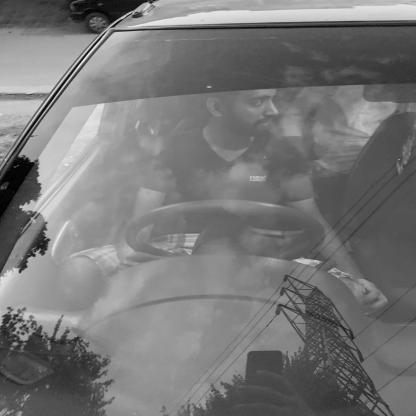no-seatbelt: (157, 82, 288, 218)
